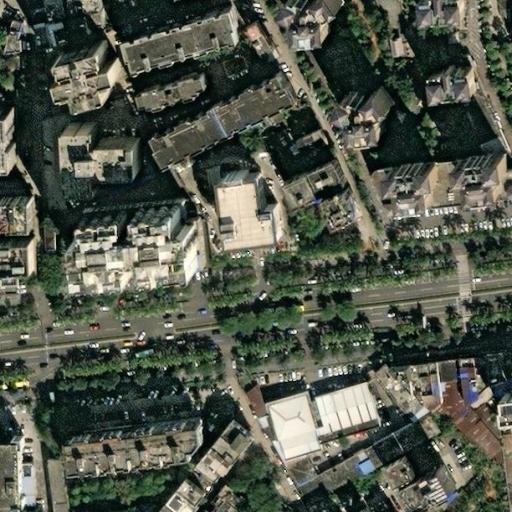building: (145, 62, 286, 152), (391, 358, 495, 467), (73, 202, 199, 279), (124, 8, 239, 68), (371, 167, 512, 213), (57, 426, 194, 467), (289, 444, 378, 505), (60, 127, 136, 191), (451, 75, 504, 160), (215, 175, 275, 242), (302, 383, 371, 433), (366, 411, 432, 463), (52, 43, 112, 99), (334, 88, 394, 138), (266, 398, 315, 459), (283, 160, 343, 209), (137, 74, 207, 110), (370, 367, 417, 417), (281, 0, 341, 38), (462, 158, 511, 198), (394, 166, 441, 207), (239, 14, 278, 61), (319, 184, 359, 228), (209, 441, 250, 481), (442, 480, 481, 512), (390, 462, 423, 495), (226, 427, 261, 458), (424, 68, 471, 91), (0, 243, 32, 274), (291, 229, 328, 255), (177, 482, 210, 511), (292, 130, 326, 158), (234, 385, 261, 420), (74, 14, 110, 39), (485, 355, 512, 388), (279, 456, 308, 483), (47, 21, 73, 49), (0, 201, 24, 231), (404, 488, 433, 512), (166, 494, 198, 512), (343, 496, 370, 512), (0, 113, 6, 167), (501, 387, 512, 415), (249, 414, 266, 430), (0, 231, 23, 241)
